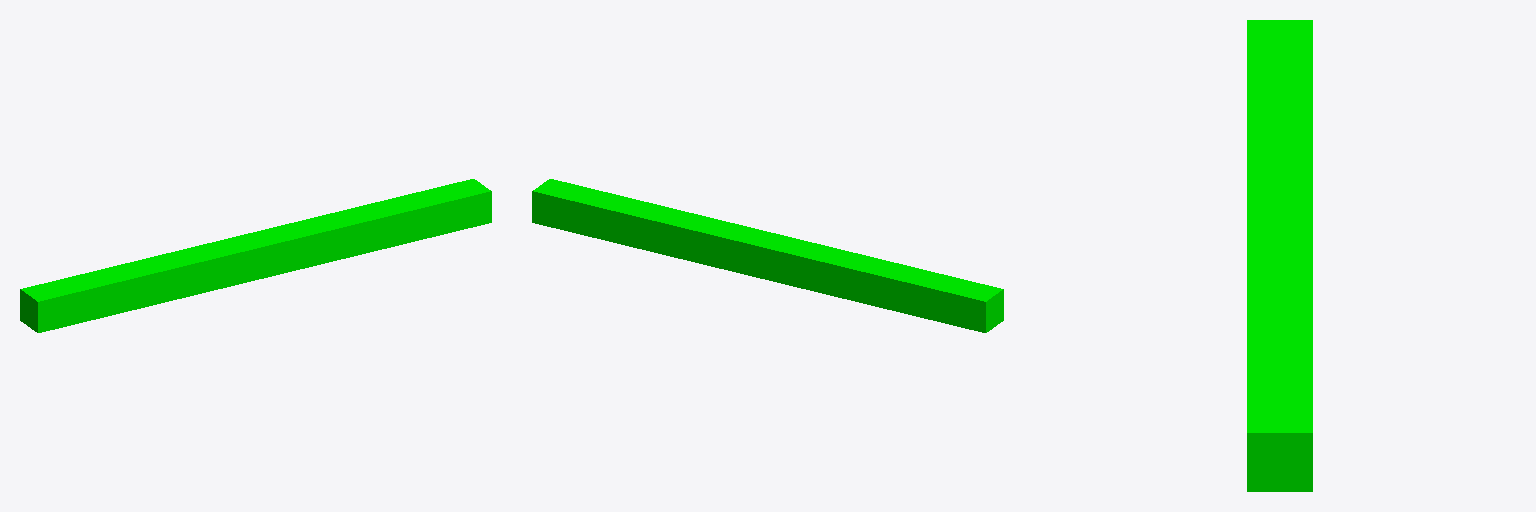
The robot description file, URDF, robot "turtlebot3_burger":
<?xml version="1.0" ?>
<robot name="turtlebot3_burger"
  xmlns:xacro="http://ros.org/wiki/xacro">
  <!-- <xacro:include filename="$(find turtlebot3_description)/urdf/common_properties.urdf"/> -->

  <!-- Init colour -->
  <material name="black">
      <color rgba="0.0 0.0 0.0 1.0"/>
  </material>

  <material name="dark">
    <color rgba="0.3 0.3 0.3 1.0"/>
  </material>

  <material name="light_black">
    <color rgba="0.4 0.4 0.4 1.0"/>
  </material>

  <material name="blue">
    <color rgba="0.0 0.0 0.8 1.0"/>
  </material>

  <material name="green">
    <color rgba="0.0 0.8 0.0 1.0"/>
  </material>

  <material name="grey">
    <color rgba="0.5 0.5 0.5 1.0"/>
  </material>

  <material name="orange">
    <color rgba="1.0 0.4235 0.0392 1.0"/>
  </material>

  <material name="brown">
    <color rgba="0.8706 0.8118 0.7647 1.0"/>
  </material>

  <material name="red">
    <color rgba="0.8 0.0 0.0 1.0"/>
  </material>

  <material name="white">
    <color rgba="1.0 1.0 1.0 1.0"/>
  </material>

  <link name="base_footprint"/>

  <joint name="base_joint" type="fixed">
    <parent link="base_footprint"/>
    <child link="base_link"/>
    <origin xyz="0.0 0.0 0.010" rpy="0 0 0"/>
  </joint>

  <link name="base_link">
    <visual>
      <origin xyz="-0.032 0 0.0" rpy="0 0 0"/>
      <geometry>
        <mesh filename="package://turtlebot3_gazebo/models/turtlebot3_common/meshes/burger_base.dae" scale="0.001 0.001 0.001"/>
      </geometry>
      <material name="light_black"/>
    </visual>

    <collision>
      <origin xyz="-0.032 0 0.070" rpy="0 0 0"/>
      <geometry>
        <box size="0.140 0.140 0.143"/>
      </geometry>
    </collision>

    <inertial>
      <origin xyz="0 0 0" rpy="0 0 0"/>
      <mass value="8.2573504e-01"/>
      <inertia ixx="2.2124416e-03" ixy="-1.2294101e-05" ixz="3.4938785e-05" iyy="2.1193702e-03" iyz="-5.0120904e-06" izz="2.0064271e-03" />
    </inertial>
  </link>

  <joint name="wheel_left_joint" type="continuous">
    <parent link="base_link"/>
    <child link="wheel_left_link"/>
    <origin xyz="0.0 0.08 0.023" rpy="-1.57 0 0"/>
    <axis xyz="0 0 1"/>
  </joint>

  <link name="wheel_left_link">
    <visual>
      <origin xyz="0 0 0" rpy="1.57 0 0"/>
      <geometry>
        <mesh filename="package://turtlebot3_gazebo/models/turtlebot3_common/meshes/tire.dae" scale="0.001 0.001 0.001"/>
      </geometry>
      <material name="dark"/>
    </visual>

    <collision>
      <origin xyz="0 0 0" rpy="0 0 0"/>
      <geometry>
        <cylinder length="0.018" radius="0.033"/>
      </geometry>
    </collision>

    <inertial>
      <origin xyz="0 0 0" />
      <mass value="2.8498940e-02" />
      <inertia ixx="1.1175580e-05" ixy="-4.2369783e-11" ixz="-5.9381719e-09" iyy="1.1192413e-05" iyz="-1.4400107e-11" izz="2.0712558e-05" />
    </inertial>
  </link>

  <joint name="wheel_right_joint" type="continuous">
    <parent link="base_link"/>
    <child link="wheel_right_link"/>
    <origin xyz="0.0 -0.080 0.023" rpy="-1.57 0 0"/>
    <axis xyz="0 0 1"/>
  </joint>

  <link name="wheel_right_link">
    <visual>
      <origin xyz="0 0 0" rpy="1.57 0 0"/>
      <geometry>
        <mesh filename="package://turtlebot3_gazebo/models/turtlebot3_common/meshes/tire.dae" scale="0.001 0.001 0.001"/>
      </geometry>
      <material name="dark"/>
    </visual>

    <collision>
      <origin xyz="0 0 0" rpy="0 0 0"/>
      <geometry>
        <cylinder length="0.018" radius="0.033"/>
      </geometry>
    </collision>

    <inertial>
      <origin xyz="0 0 0" />
      <mass value="2.8498940e-02" />
      <inertia ixx="1.1175580e-05" ixy="-4.2369783e-11" ixz="-5.9381719e-09" iyy="1.1192413e-05" iyz="-1.4400107e-11" izz="2.0712558e-05" />
    </inertial>
  </link>

  <joint name="caster_back_joint" type="fixed">
    <parent link="base_link"/>
    <child link="caster_back_link"/>
    <origin xyz="-0.081 0 -0.004" rpy="-1.57 0 0"/>
  </joint>

  <link name="caster_back_link">
    <collision>
      <origin xyz="0 0.001 0" rpy="0 0 0"/>
      <geometry>
        <box size="0.030 0.009 0.020"/>
      </geometry>
    </collision>

    <inertial>
      <origin xyz="0 0 0" />
      <mass value="0.005" />
      <inertia ixx="0.001" ixy="0.0" ixz="0.0" iyy="0.001" iyz="0.0" izz="0.001" />
    </inertial>
  </link>

  <joint name="imu_joint" type="fixed">
    <parent link="base_link"/>
    <child link="imu_link"/>
    <origin xyz="-0.032 0 0.068" rpy="0 0 0"/>
  </joint>

  <link name="imu_link"/>

  <joint name="scan_joint" type="fixed">
    <parent link="base_link"/>
    <child link="base_scan"/>
    <origin xyz="-0.032 0 0.172" rpy="0 0 0"/>
  </joint>

  <link name="base_scan">
    <visual>
      <origin xyz="0 0 0.0" rpy="0 0 0"/>
      <geometry>
        <mesh filename="package://turtlebot3_gazebo/models/turtlebot3_common/meshes/lds.dae" scale="0.001 0.001 0.001"/>
      </geometry>
      <material name="dark"/>
    </visual>

    <collision>
      <origin xyz="0.015 0 -0.0065" rpy="0 0 0"/>
      <geometry>
        <cylinder length="0.0315" radius="0.055"/>
      </geometry>
    </collision>

    <inertial>
      <mass value="0.114" />
      <origin xyz="0 0 0" />
      <inertia ixx="0.001" ixy="0.0" ixz="0.0" iyy="0.001" iyz="0.0" izz="0.001" />
    </inertial>
  </link>

  <!-- Add a new link for the arm -->
  <link name="arm_link">
    <visual>
      <origin xyz="0 0 0" rpy="0 0 0"/>
      <geometry>
        <box size="0.15 0.01 0.01"/>
      </geometry>
      <material name="green">
        <color rgba="0 1 0 1"/>
      </material>
    </visual>
  </link>

  <!-- Add a joint to attach the arm to the base or another link -->
  <joint name="arm_joint" type="revolute">
    <parent link="base_link"/>
    <child link="arm_link"/>
    <origin xyz="0 0 0.181" rpy="0 0 0"/>
    <axis xyz="0 0 1"/>
    <limit lower="-1.57" upper="1.57" effort="5" velocity="1.0"/>
  </joint>
</robot>

--- Render facts (derived) ---
Views: 3 orthographic renders of the robot side by side, from view 1: azimuth 30°, elevation 25°; view 2: azimuth 150°, elevation 25°; view 3: azimuth 270°, elevation 25°.
Robot: turtlebot3_burger — 8 links, 7 joints (1 revolute, 2 continuous, 4 fixed); root link base_footprint; default pose: all joints at 0.
Links seen in each view (by area): view 1: arm_link; view 2: arm_link; view 3: arm_link.
Boxes of the visible links, x1,y1,x2,y2 form: arm_link: (20,179,491,332); arm_link: (532,179,1003,332); arm_link: (1247,20,1312,491).
Size in the robot's own frame: 0.15 by 0.01 by 0.01 metres.
Meshes: 3 distinct files referenced, 0 mesh visuals loaded (none loaded); not drawn: 4 (reference not matched to a file when rendering).